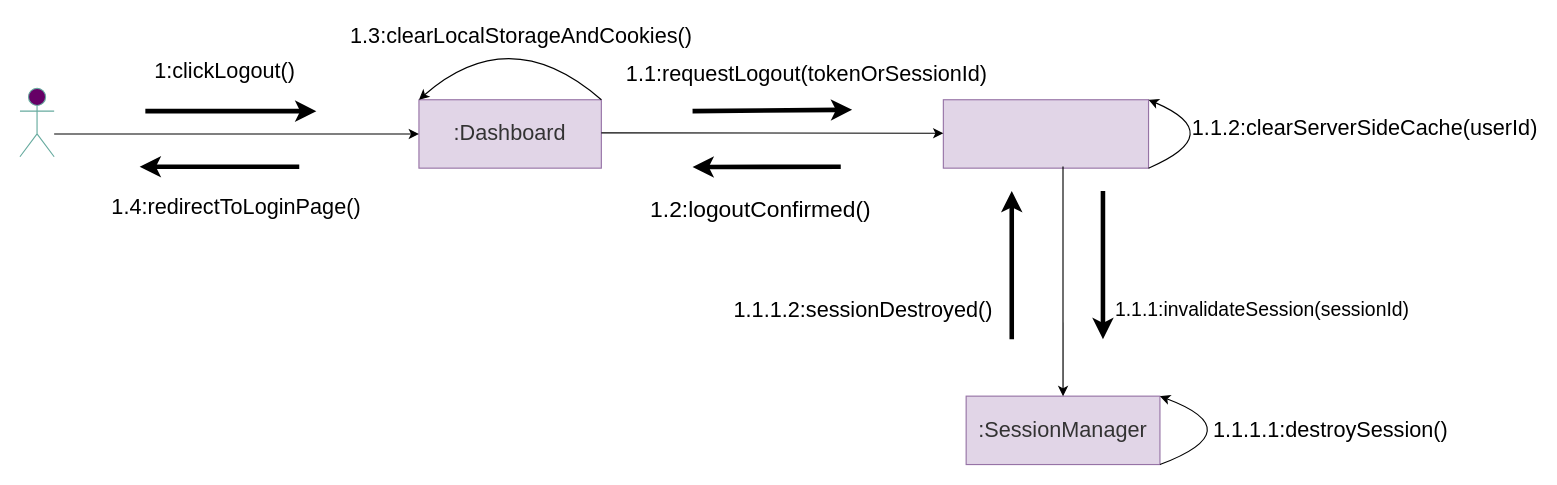
The diagram is 1557 pixels wide and 485 high, and some of its shapes have lost their labels. Here are the shapes that lost their labels. From the top down, the centre of each, then its label:
At point (36, 122): "User".
At point (1045, 133): ":AuthController".
